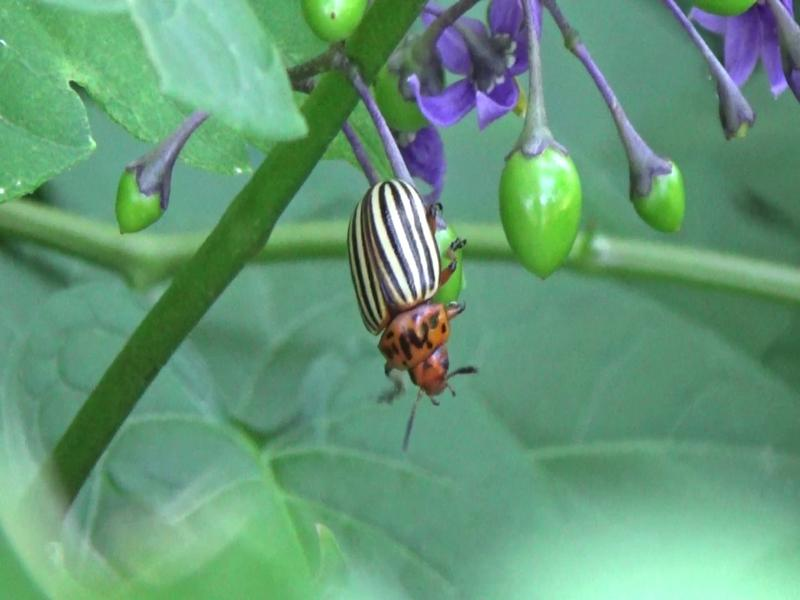hrosc: (331, 170, 496, 419)
